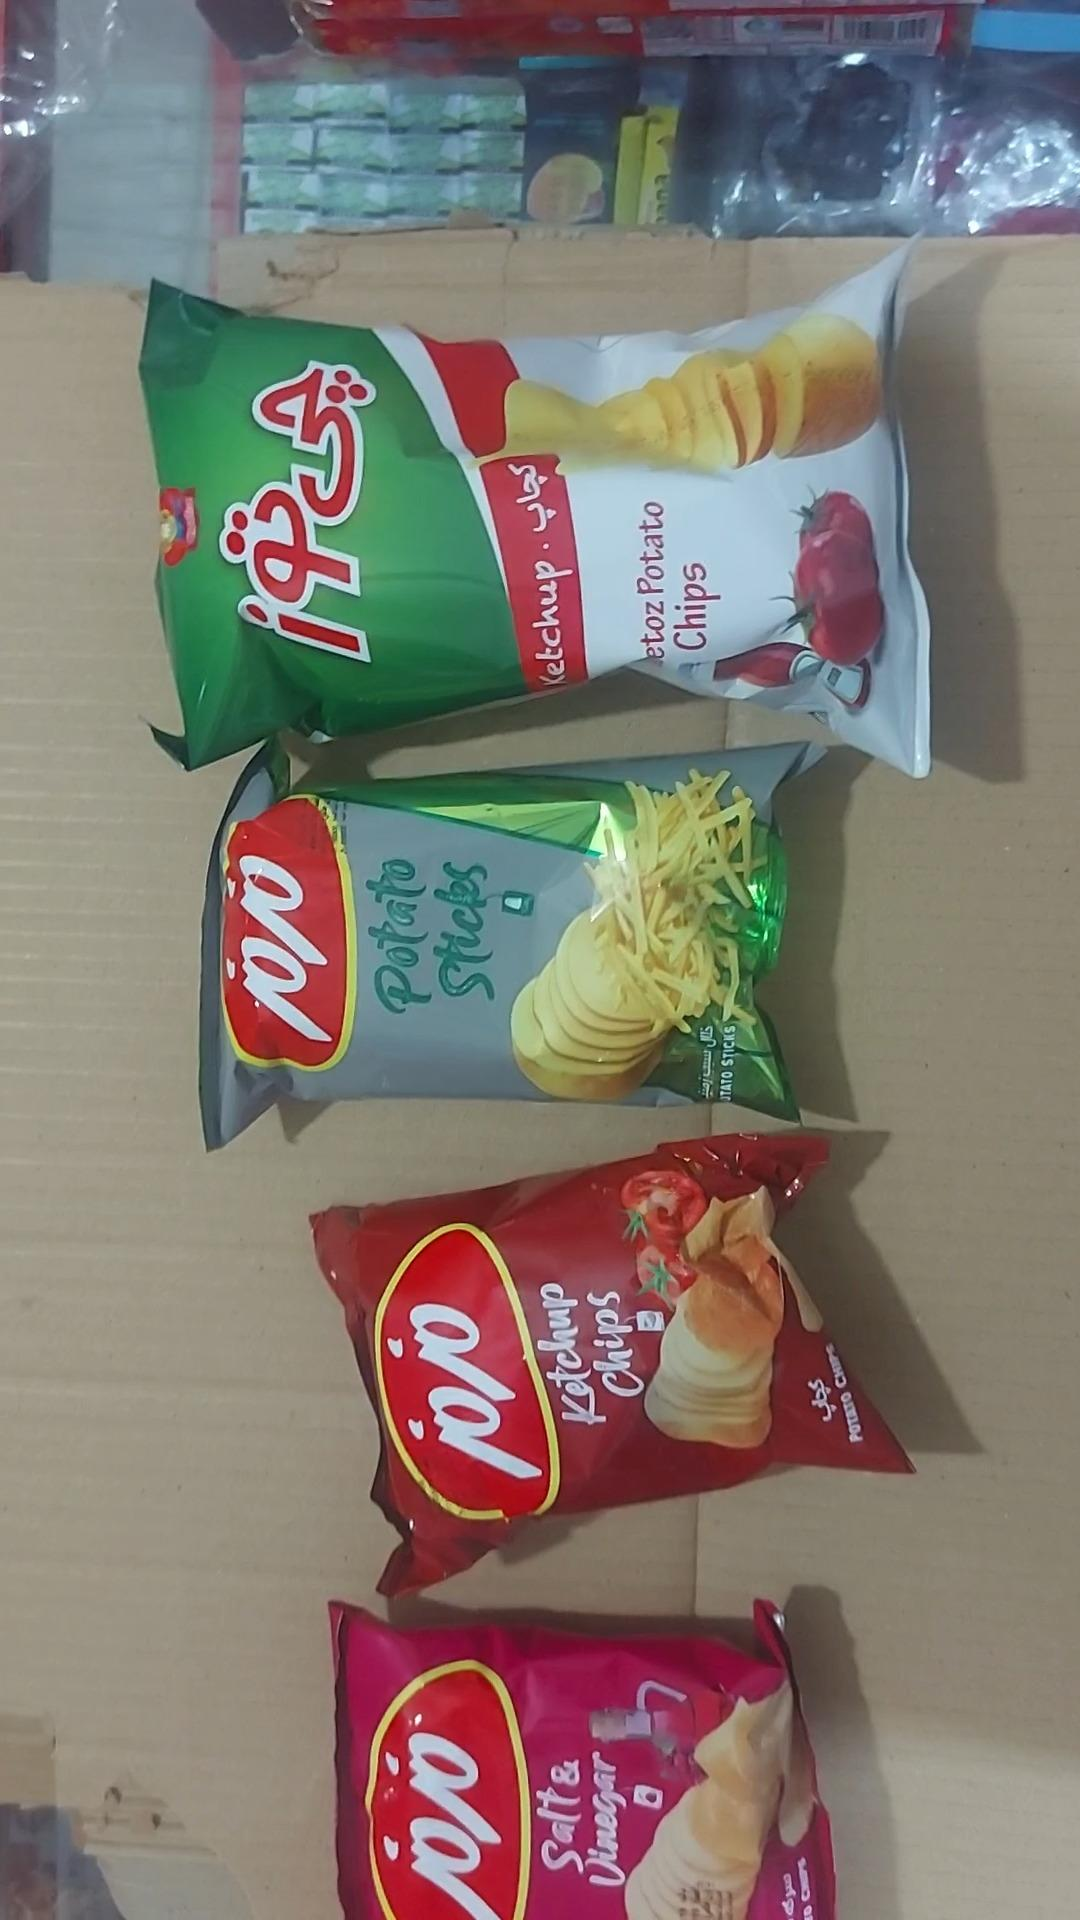Cheetoz ketchup chips: (132, 245, 931, 781)
Maz Maz ketchup chips: (309, 1133, 920, 1600)
Maz Maz potato sticks: (196, 733, 825, 1153)
Maz Maz vinegar chips: (327, 1598, 837, 1919)
